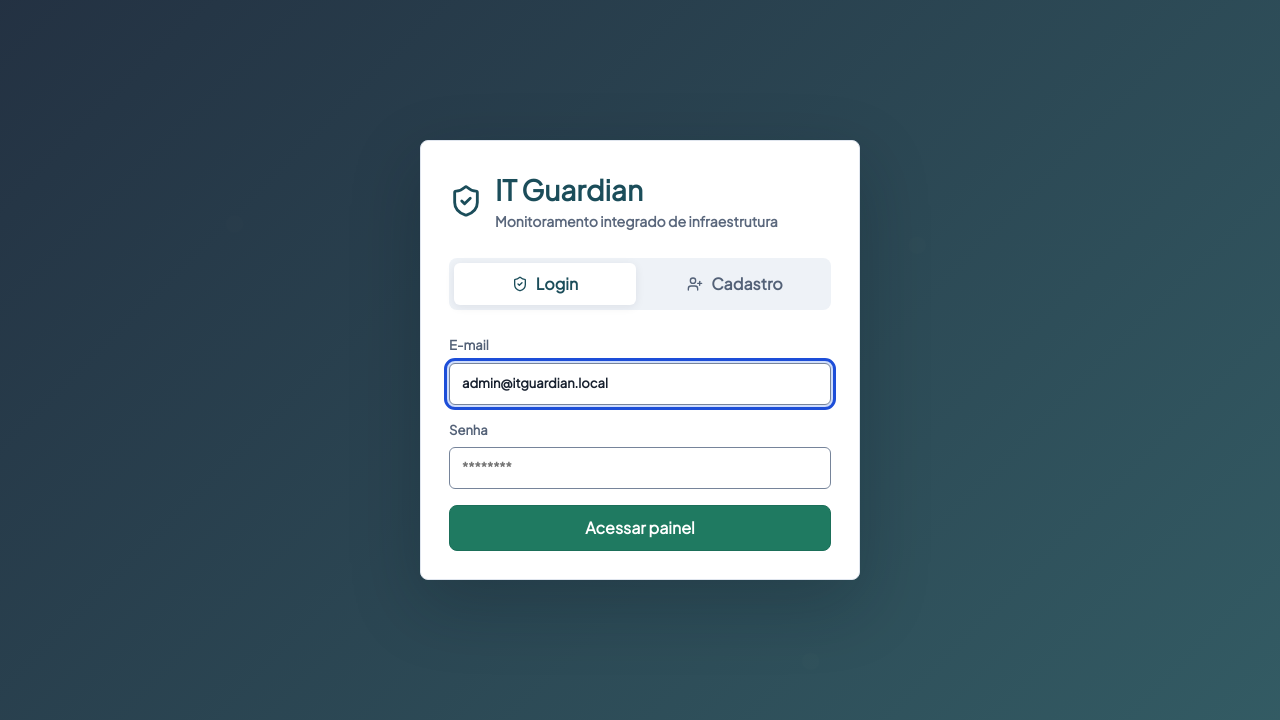
login simples › credenciais invalidas mostram mensagem generica anunciada (role=alert)
Replace the text in the field labelled "E-mail" with "ana@empresa.com" at coordinates (640, 384), box [449,362,831,404]
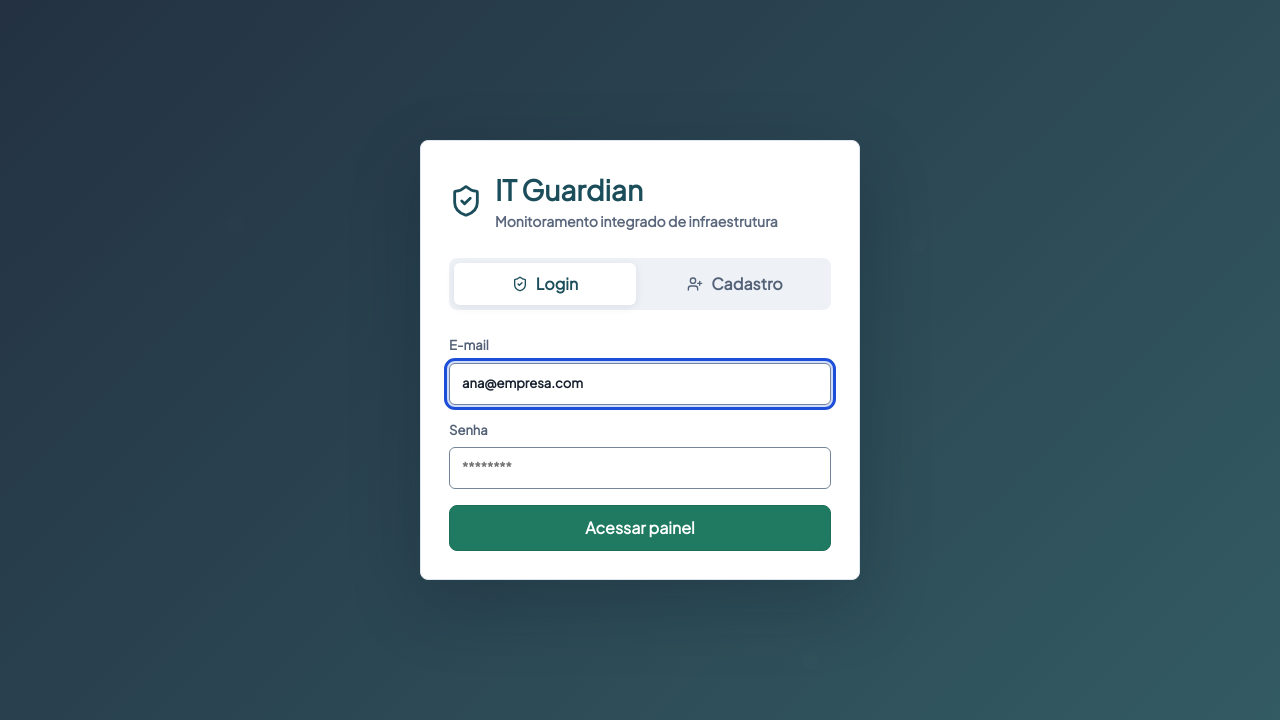
Type "senha-correta-123" into the password field labelled "Senha" at coordinates (640, 468), box [449,447,831,489]
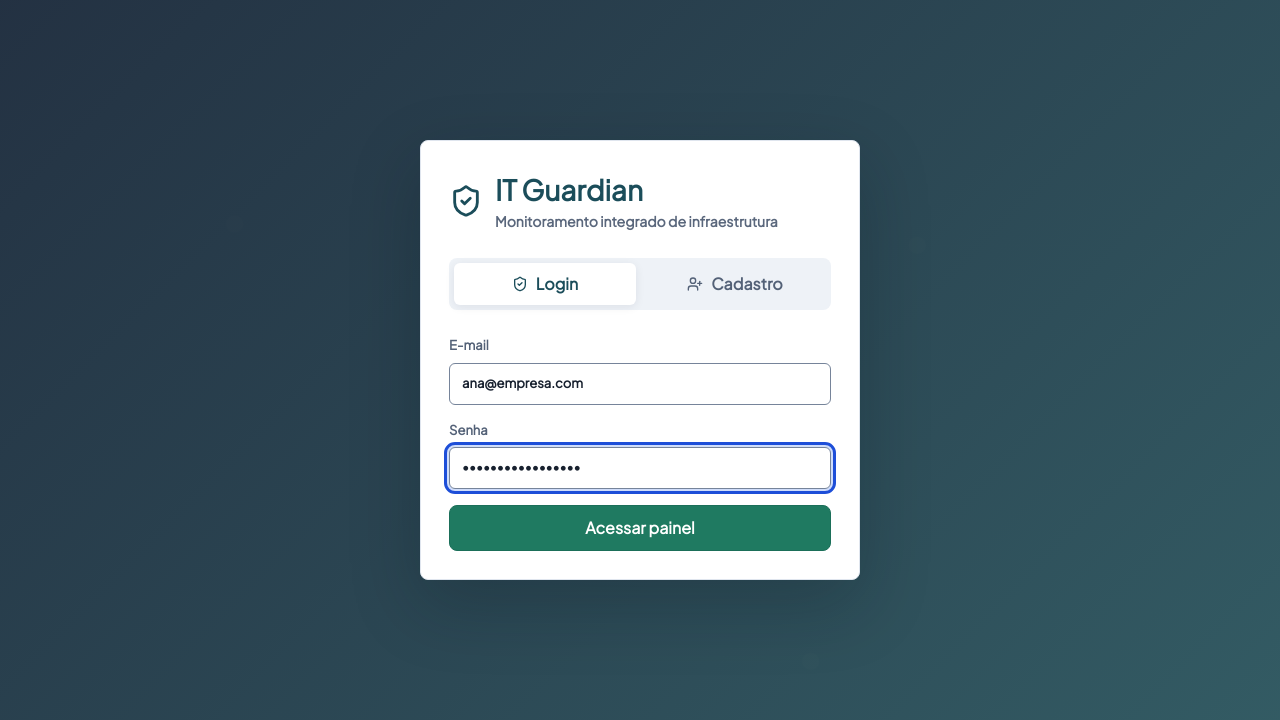
Click the button "Acessar painel" at coordinates (640, 528), box [449,505,831,551]
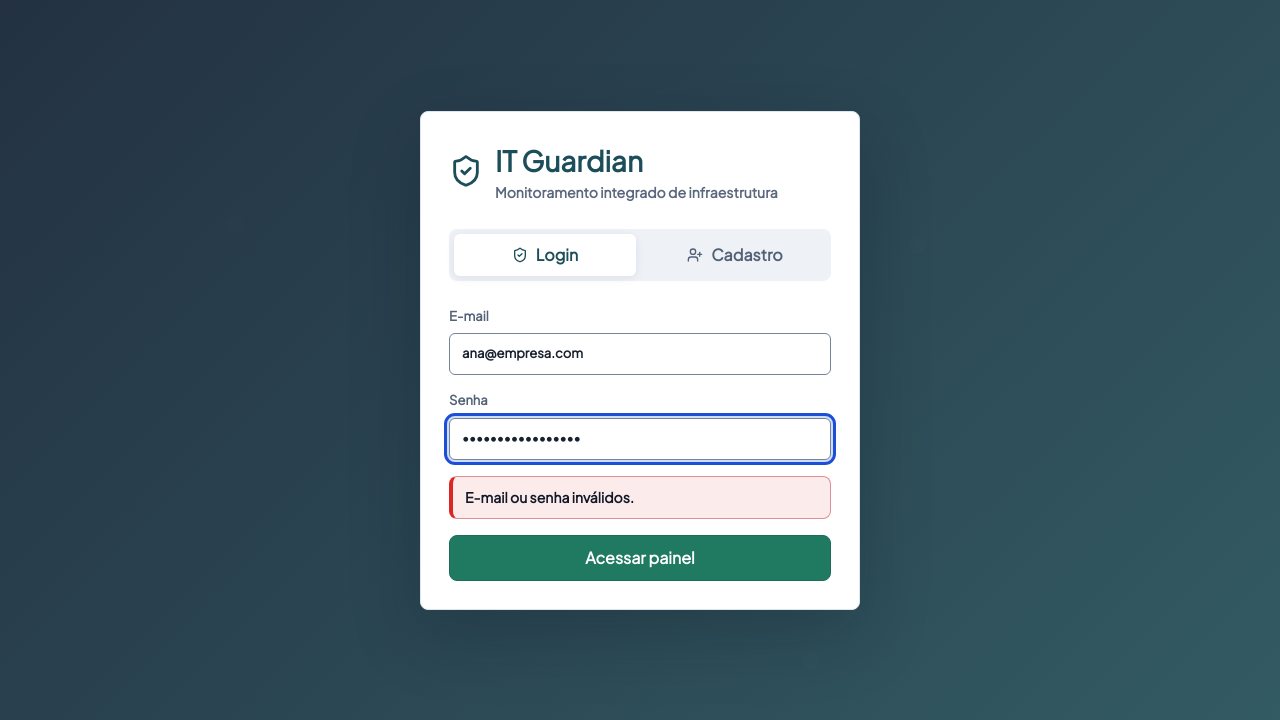
Expected: the message reads "E-mail ou senha inválidos.", [465,488,634,506]
